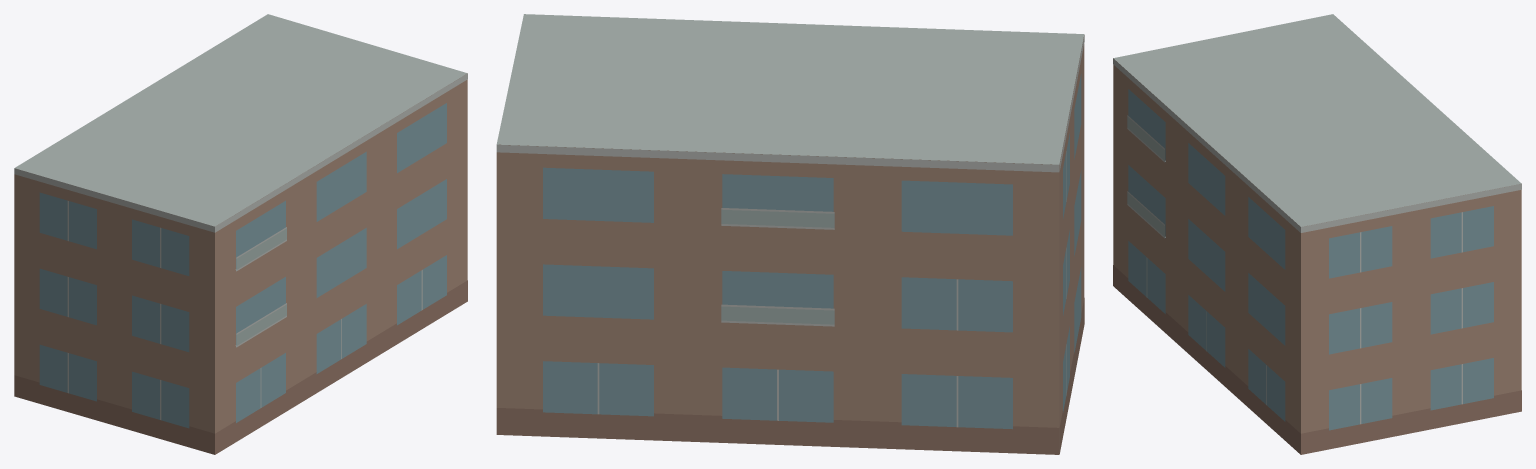
The model's file is survey-upis-32705814.glb.
3 views of the same model, side by side, from view 1: azimuth 30°, elevation 25°; view 2: azimuth 150°, elevation 25°; view 3: azimuth 270°, elevation 25° (orthographic). The views are drawn at different scales.
Visible parts, largest first — view 1: survey-upis-32705814.tmp; view 2: survey-upis-32705814.tmp; view 3: survey-upis-32705814.tmp.
Boxes of the visible parts, left/top/right/bottom form: survey-upis-32705814.tmp: left=14, top=14, right=467, bottom=454; survey-upis-32705814.tmp: left=496, top=14, right=1084, bottom=454; survey-upis-32705814.tmp: left=1113, top=14, right=1521, bottom=454.
Size of the model in its own units: 18.36 by 9.15 by 14.88.
